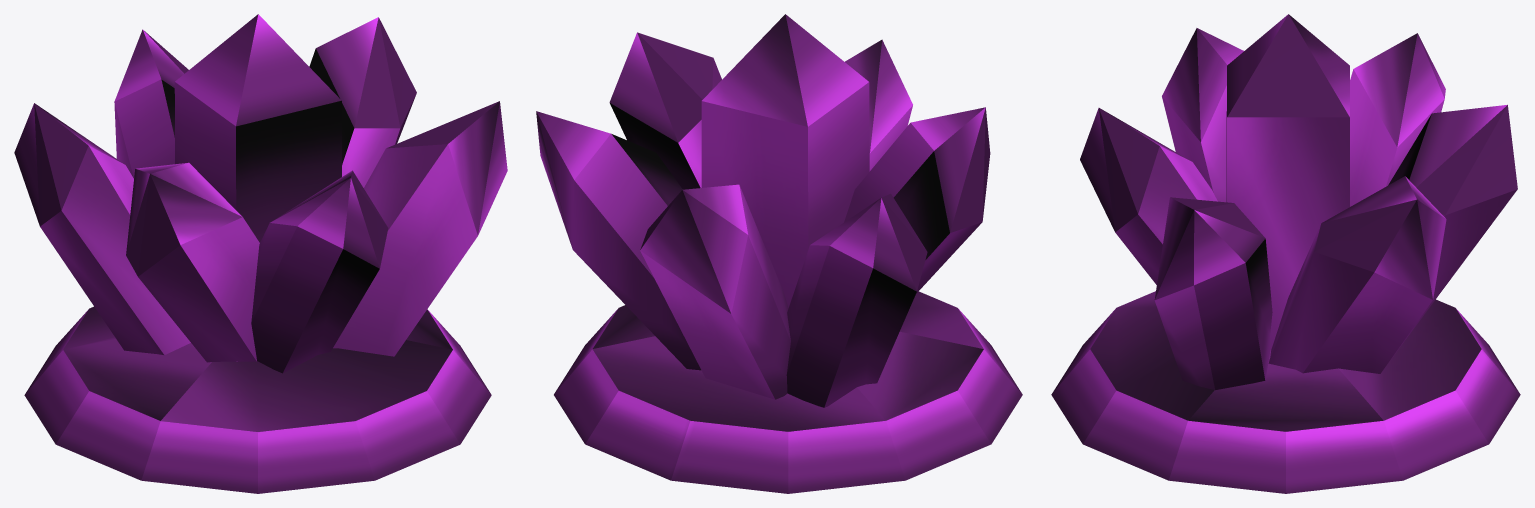
The model's file is cristal.glb.
3 views of the same model, side by side, from view 1: azimuth 30°, elevation 25°; view 2: azimuth 150°, elevation 25°; view 3: azimuth 270°, elevation 25° (orthographic).
Visible parts, largest first — view 1: Cylinder, Cube, Cube.006, Cube.003, Cube.005, Cube.001, Cube.004, Cube.002; view 2: Cylinder, Cube, Cube.002, Cube.005, Cube.004, Cube.003, Cube.006, Cube.001; view 3: Cylinder, Cube, Cube.004, Cube.006, Cube.002, Cube.001, Cube.005, Cube.003.
Boxes of the visible parts, x1,y1,x2,y2 form: Cylinder: (24, 306, 491, 493); Cube: (174, 14, 341, 361); Cube.006: (333, 101, 507, 356); Cube.003: (126, 162, 259, 362); Cube.005: (14, 103, 190, 355); Cube.001: (251, 170, 388, 373); Cube.004: (309, 17, 416, 187); Cube.002: (114, 29, 188, 178); Cylinder: (554, 291, 1022, 493); Cube: (701, 14, 869, 307); Cube.002: (640, 184, 790, 399); Cube.005: (786, 193, 927, 407); Cube.004: (536, 111, 700, 370); Cube.003: (844, 107, 990, 293); Cube.006: (609, 32, 721, 189); Cube.001: (845, 39, 912, 171); Cylinder: (1051, 291, 1520, 493); Cube: (1226, 14, 1349, 349); Cube.004: (1268, 176, 1446, 373); Cube.006: (1154, 197, 1272, 390); Cube.002: (1388, 104, 1517, 358); Cube.001: (1080, 108, 1217, 284); Cube.005: (1350, 33, 1445, 206); Cube.003: (1162, 28, 1243, 202).
Size of the model in its own units: 10.95 by 9.79 by 10.91.
1 material, 1 textured.
